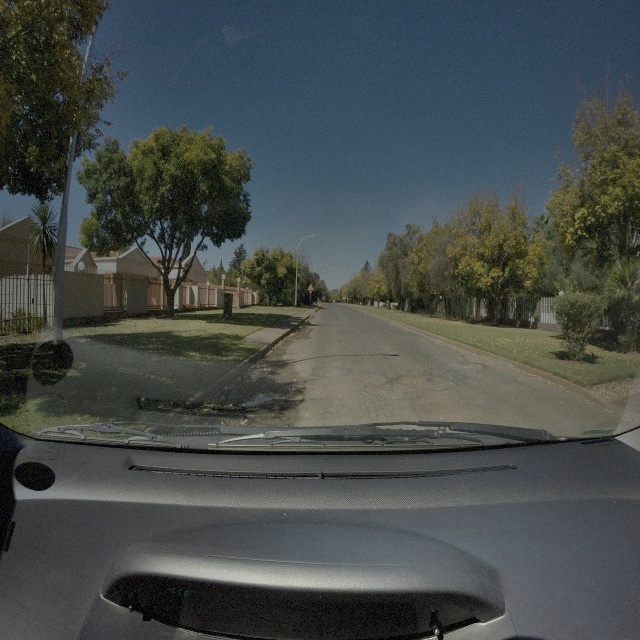pothole: (242, 392, 276, 410), (396, 374, 434, 389), (278, 386, 306, 404), (460, 360, 486, 371), (250, 367, 269, 381)
